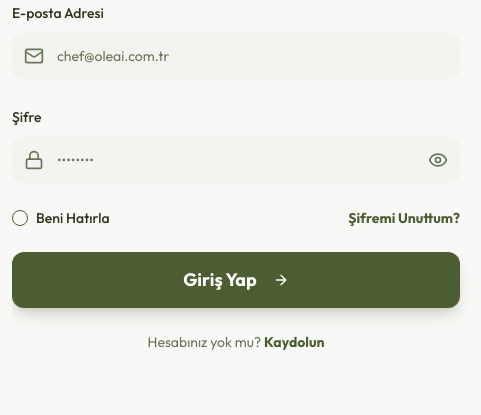
Test: LoginForm › shows validation errors for empty fields
What coordinates should you click on to do the following:
click the button "Giriş Yap"
I would click on:
 (236, 280)
Its box is [12, 252, 460, 308].
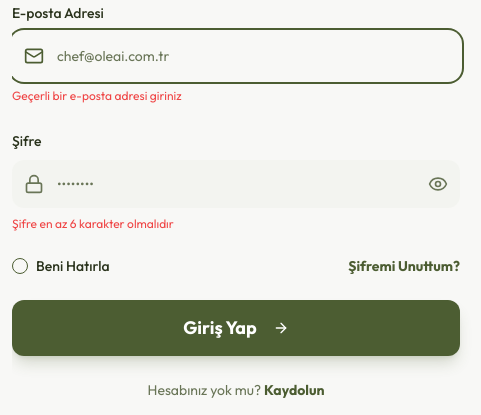
Now the text "Geçerli bir e-posta adresi giriniz" is shown, box [12, 88, 182, 103]
Now the text "Şifre en az 6 karakter olmalıdır" is shown, box [12, 216, 174, 231]
